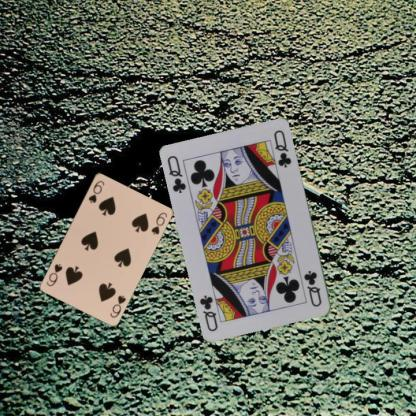6s: (108, 292, 127, 319), (86, 178, 105, 204)
Qc: (164, 153, 188, 195), (302, 268, 323, 309)
